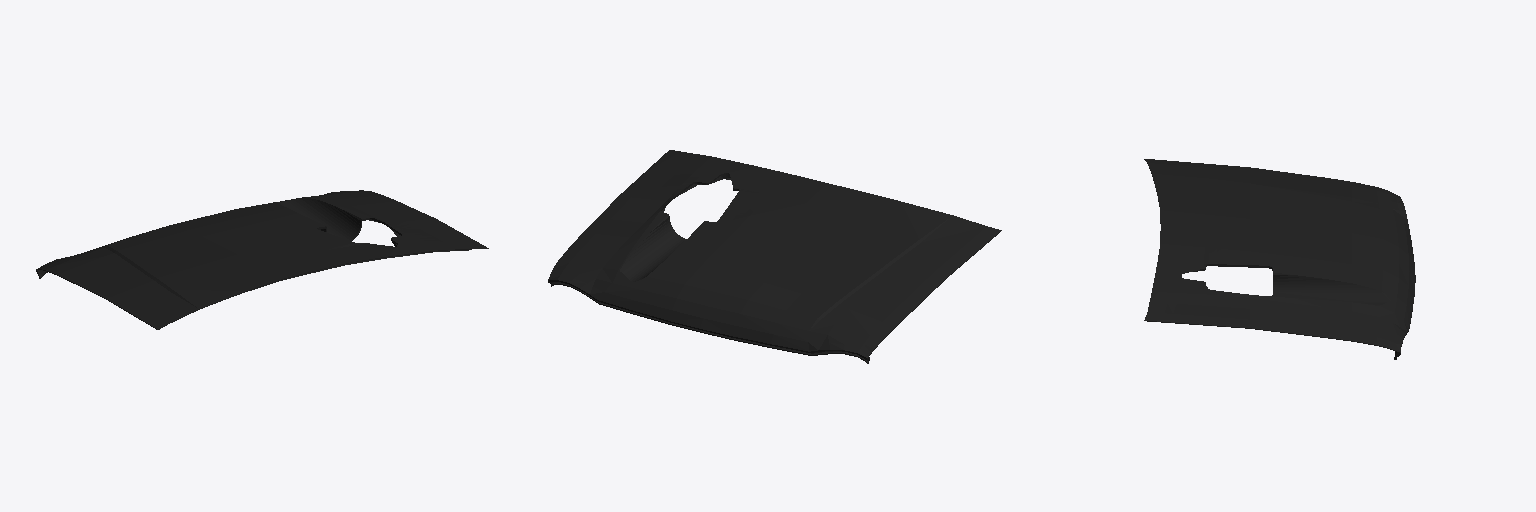
File: turboBig_hood.obj
3 renders of one model, left to right at view 1: azimuth 30°, elevation 25°; view 2: azimuth 150°, elevation 25°; view 3: azimuth 270°, elevation 25°, orthographic.
Parts seen in each view (by area): view 1: TurboBig-Hood_BezierCircle.007; view 2: TurboBig-Hood_BezierCircle.007; view 3: TurboBig-Hood_BezierCircle.007.
Part boxes in pixels (bbox=[...]): TurboBig-Hood_BezierCircle.007: bbox=[36, 190, 488, 329]; TurboBig-Hood_BezierCircle.007: bbox=[548, 150, 1001, 363]; TurboBig-Hood_BezierCircle.007: bbox=[1144, 159, 1415, 359].
Bounding box in the file's own units: 1.2 × 0.2019 × 0.8523.